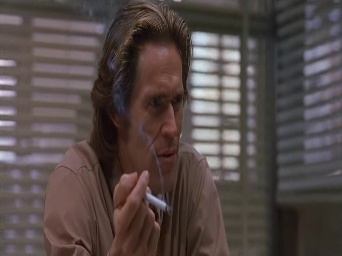smoke: (137, 188, 172, 214)
